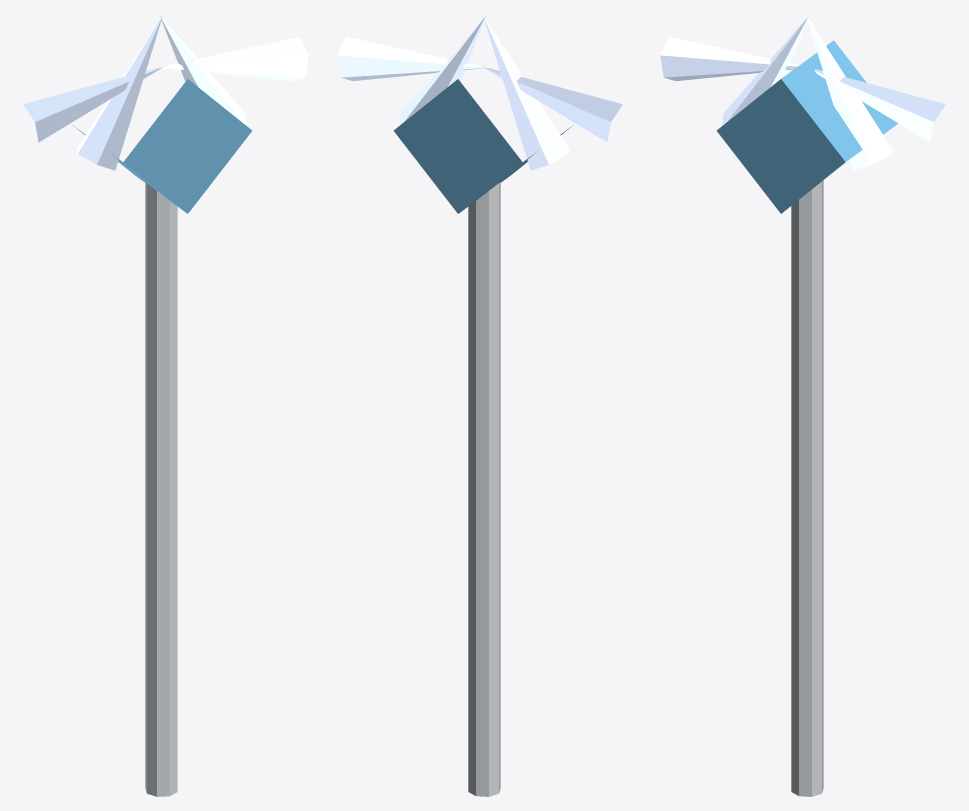
File: crystal-maiden.glb
3 renders of one model, left to right at view 1: azimuth 30°, elevation 25°; view 2: azimuth 150°, elevation 25°; view 3: azimuth 330°, elevation 25°, orthographic.
Visible parts, largest first — view 1: crystal-maiden-shaft, crystal-maiden-head-gem, crystal-maiden-shard-0.5, crystal-maiden-shard1.4, crystal-maiden-shard-1.4, crystal-maiden-shard0.5; view 2: crystal-maiden-shaft, crystal-maiden-head-gem, crystal-maiden-shard-0.5, crystal-maiden-shard1.4, crystal-maiden-shard-1.4, crystal-maiden-shard0.5; view 3: crystal-maiden-shaft, crystal-maiden-head-gem, crystal-maiden-shard-1.4, crystal-maiden-shard0.5, crystal-maiden-shard1.4, crystal-maiden-shard-0.5.
Boxes of the visible parts, x1,y1,x2,y2 form: crystal-maiden-shaft: [145, 182, 177, 796]; crystal-maiden-head-gem: [72, 79, 252, 213]; crystal-maiden-shard-0.5: [76, 15, 162, 170]; crystal-maiden-shard1.4: [158, 36, 308, 81]; crystal-maiden-shard-1.4: [23, 66, 164, 142]; crystal-maiden-shard0.5: [160, 16, 246, 125]; crystal-maiden-shaft: [468, 182, 500, 796]; crystal-maiden-head-gem: [393, 79, 573, 213]; crystal-maiden-shard-0.5: [483, 15, 569, 170]; crystal-maiden-shard1.4: [337, 36, 487, 81]; crystal-maiden-shard-1.4: [481, 66, 622, 142]; crystal-maiden-shard0.5: [399, 16, 485, 125]; crystal-maiden-shaft: [791, 180, 823, 796]; crystal-maiden-head-gem: [716, 40, 898, 213]; crystal-maiden-shard-1.4: [660, 36, 799, 81]; crystal-maiden-shard0.5: [806, 15, 892, 170]; crystal-maiden-shard1.4: [814, 69, 945, 142]; crystal-maiden-shard-0.5: [722, 16, 808, 125].
Bounding box in the file's own units: 0.6674 × 1.78 × 0.22.
